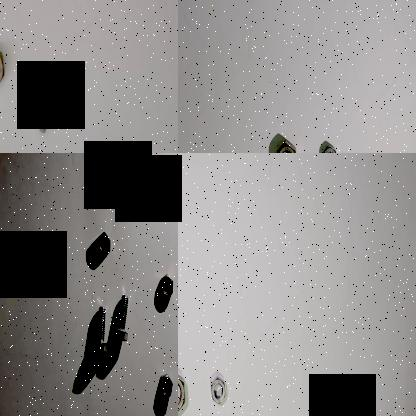Bolts: (107, 290, 137, 345), (90, 299, 110, 358)
NUTS: (153, 270, 175, 300), (208, 373, 228, 404), (96, 224, 112, 260), (37, 101, 50, 138), (154, 372, 172, 398), (274, 137, 299, 153), (319, 134, 340, 153), (178, 371, 186, 415), (0, 42, 5, 90)
